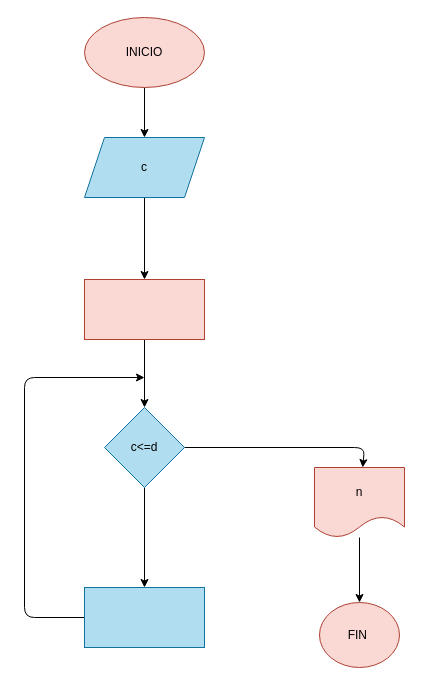
Some shapes in this 422 by 685 pixel diagram are drawn without their labels. Here are the shapes that lost their labels. From the top down, the centre of each, then its label:
At (144,309): "n=0 d=2*c".
At (144,617): "c=1.05*c n=n+1".
